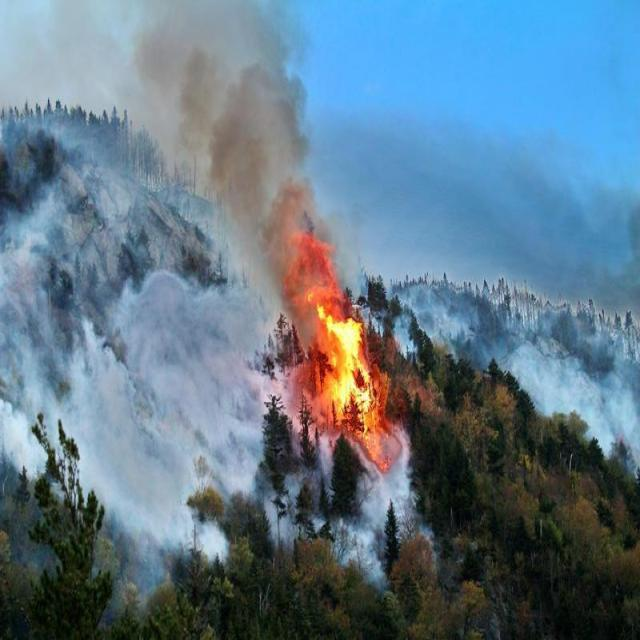Fire: (283, 227, 392, 471)
Smoke: (1, 1, 640, 623)
